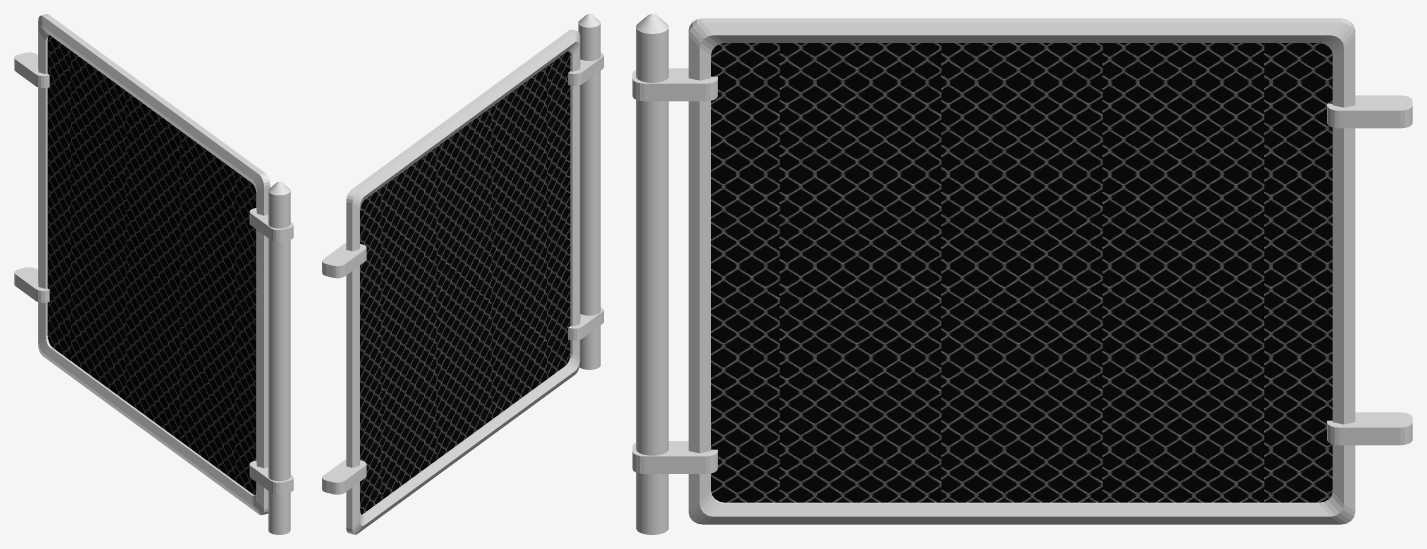
File: fenceNew.fbx
3 renders of one model, left to right at view 1: azimuth 30°, elevation 25°; view 2: azimuth 150°, elevation 25°; view 3: azimuth 270°, elevation 25°, orthographic. The views are drawn at different scales.
Parts seen in each view (by area): view 1: Cylinder, Cylinder.001; view 2: Cylinder, Cylinder.001; view 3: Cylinder, Cylinder.001.
Boxes of the visible parts, x1=… form: Cylinder: x1=14, y1=14, x2=293, y2=515; Cylinder.001: x1=268, y1=182, x2=290, y2=534; Cylinder: x1=322, y1=29, x2=603, y2=534; Cylinder.001: x1=578, y1=14, x2=600, y2=369; Cylinder: x1=632, y1=18, x2=1412, y2=524; Cylinder.001: x1=636, y1=14, x2=668, y2=534.
Size of the model in its own units: 46.78 by 728 by 1003.
